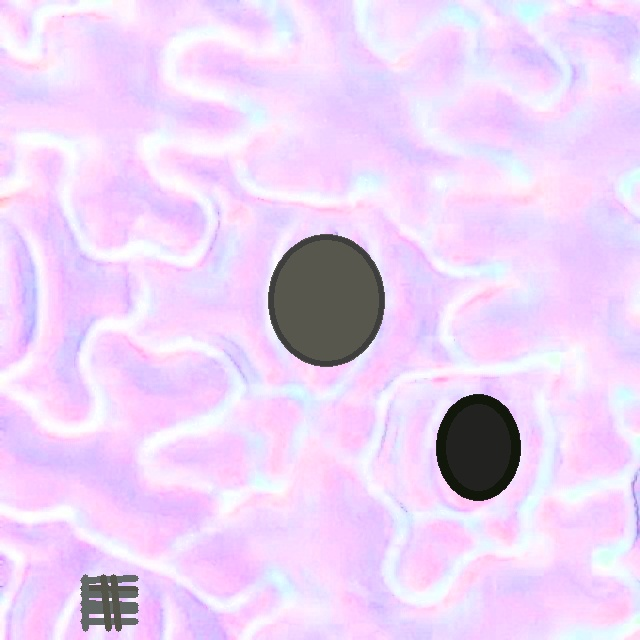open: (268, 234, 383, 365), (436, 394, 520, 500), (80, 574, 138, 631)
